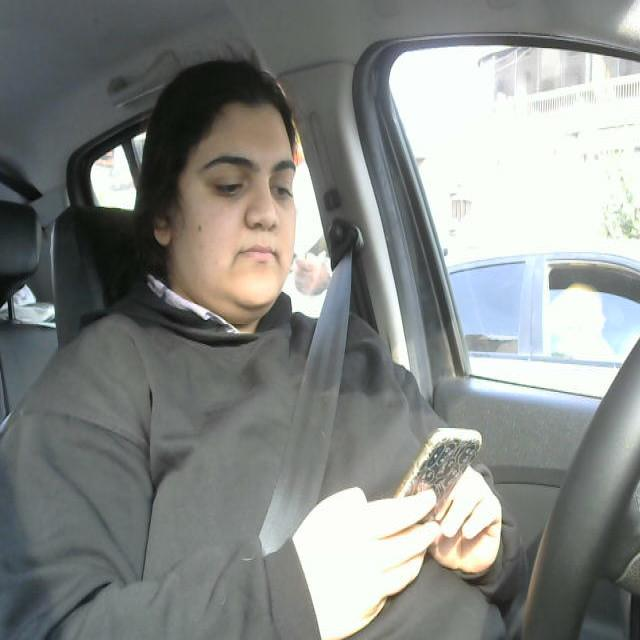mobile use: (399, 420, 490, 504)
